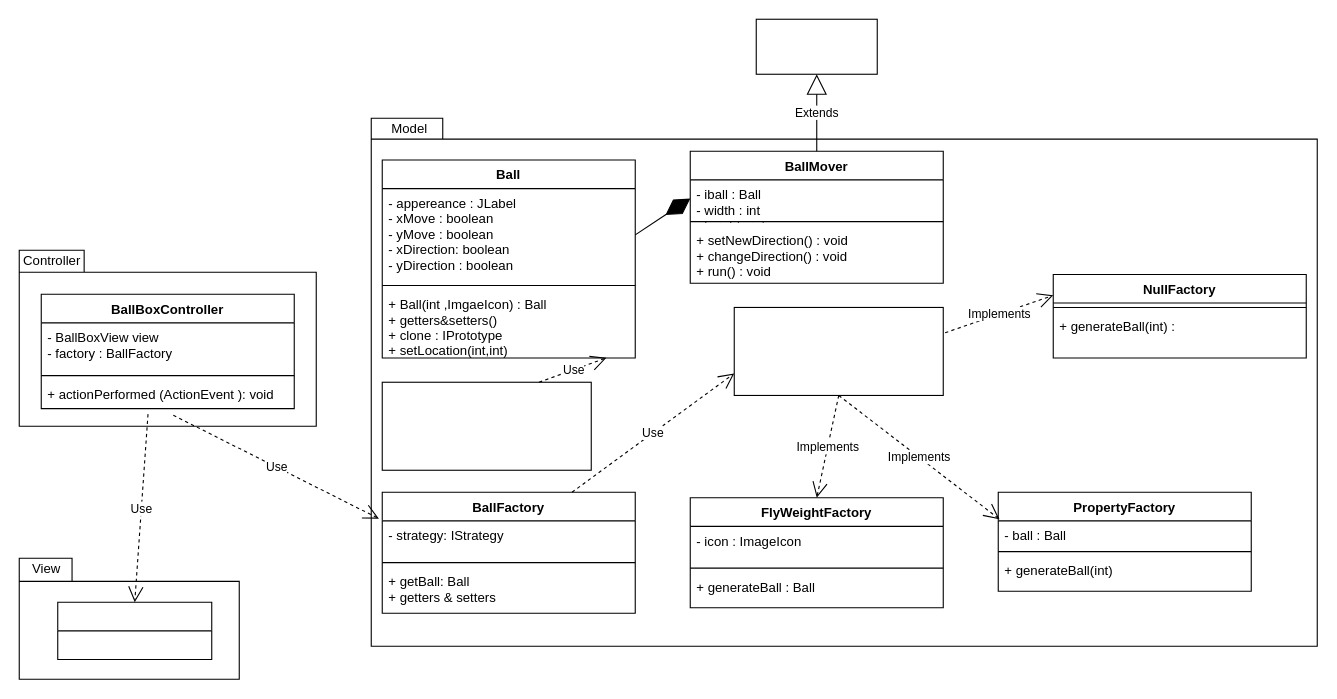
The diagram is 1337 pixels wide and 699 high, and some of its shapes have lost their labels. The shapes that lost their labels are listed below. From the top down, each one's centre as x and y in pixels, then its label:
At (x=816, y=46): "Thread".
At (x=838, y=350): "<<Interface>> IStrategy + generateBall(): Ball + deepClone(): IPrototype".
At (x=486, y=425): "<<Interface>> IProtorype + clone(): IPrototype + deepClone(): IPrototype".
At (x=134, y=630): "BallBoxView".
